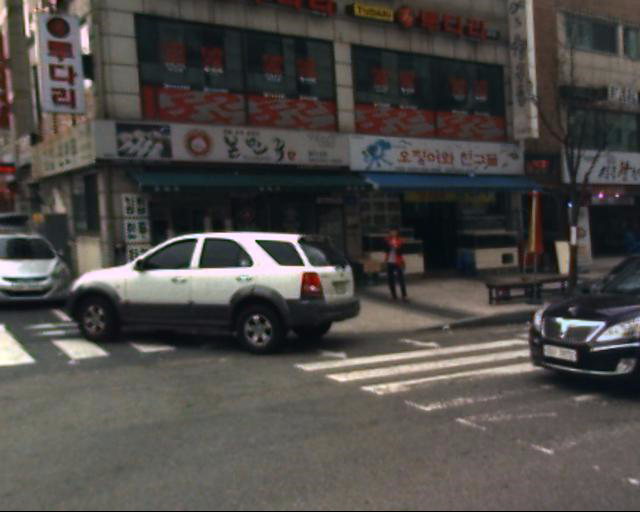person: (376, 220, 417, 323)
